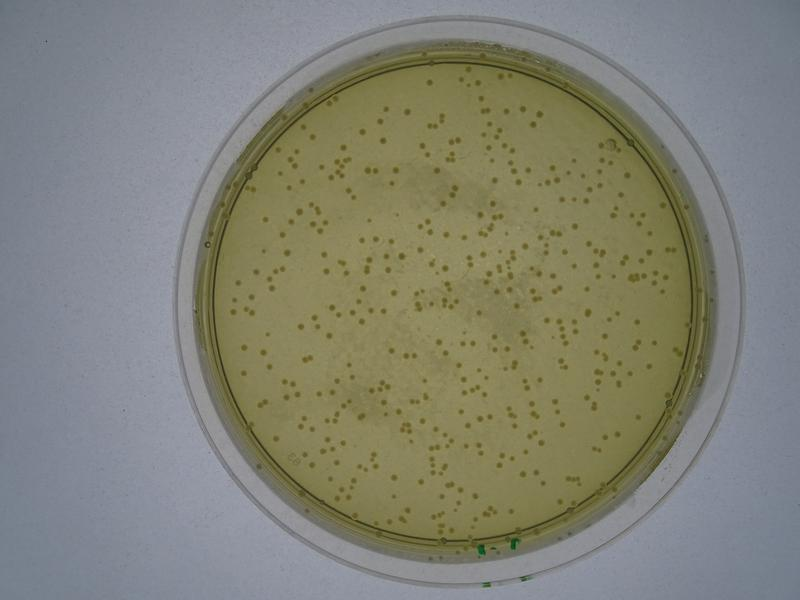colony: (632, 411, 645, 425), (269, 432, 283, 444), (582, 284, 594, 297), (430, 336, 444, 347), (391, 164, 403, 176), (295, 321, 306, 334), (570, 221, 582, 232), (319, 248, 330, 260), (320, 267, 332, 278), (250, 265, 261, 277), (389, 471, 400, 483), (402, 105, 412, 118), (387, 288, 400, 298), (239, 341, 249, 353), (260, 213, 270, 225), (387, 345, 397, 357), (535, 108, 547, 118), (507, 506, 517, 518), (418, 416, 428, 427), (455, 407, 466, 417), (425, 77, 435, 87), (325, 332, 335, 342), (379, 136, 389, 146), (473, 309, 483, 319), (489, 176, 500, 185), (358, 317, 368, 326), (358, 234, 366, 245), (601, 432, 609, 442), (417, 244, 424, 255), (333, 458, 341, 467), (476, 209, 483, 219), (517, 471, 527, 478)
